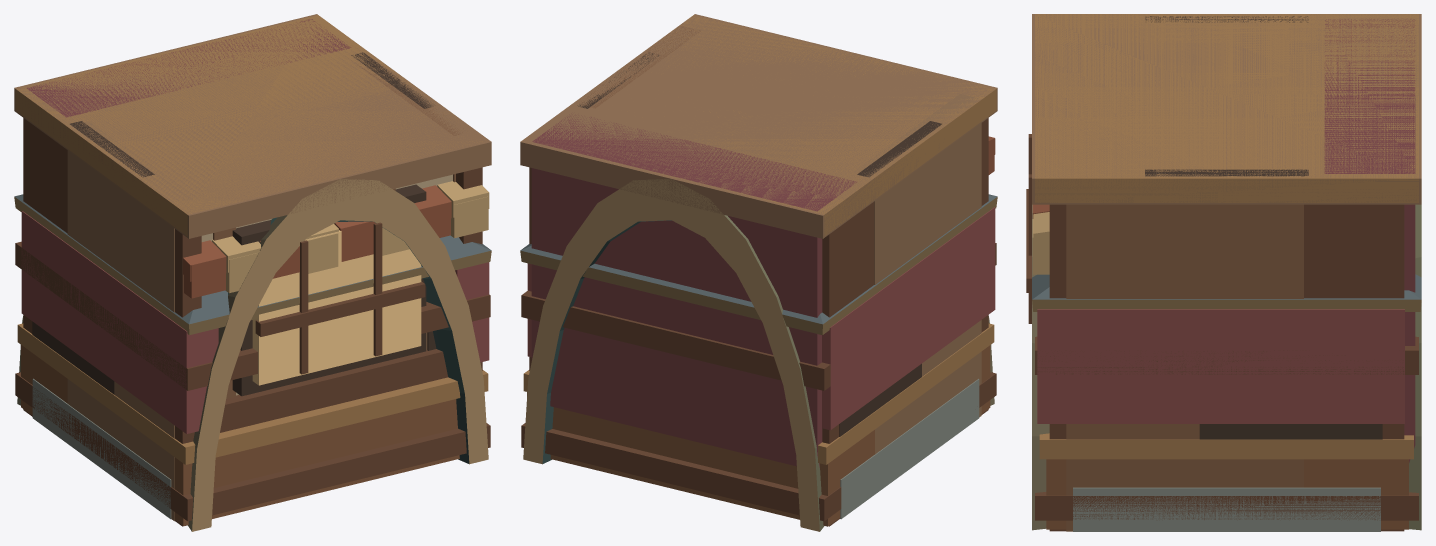
Rendered from world-expansion.glb.
3 views of the same model, side by side, from view 1: azimuth 30°, elevation 25°; view 2: azimuth 150°, elevation 25°; view 3: azimuth 270°, elevation 25° (orthographic). The views are drawn at different scales.
Visible parts, largest first — view 1: ReadingShelf, WallPanel, CushionSeat, ToyTunnel, WindowPanel, YardFence, MarketAmber, LanternSpan, MoonPavilion; view 2: CushionSeat, WallPanel, ReadingShelf, ToyTunnel, YardFence, LanternSpan, MoonPavilion; view 3: ReadingShelf, CushionSeat, WallPanel, YardFence, LanternSpan, MoonPavilion, ToyTunnel, MarketAmber, WindowPanel.
Boxes of the visible parts, x1,y1,x2,y2 form: ReadingShelf: [15, 15, 490, 526]; WallPanel: [14, 14, 491, 525]; CushionSeat: [21, 19, 489, 433]; ToyTunnel: [17, 179, 488, 531]; WindowPanel: [232, 184, 426, 396]; YardFence: [32, 57, 463, 521]; MarketAmber: [183, 181, 489, 298]; LanternSpan: [32, 52, 433, 519]; MoonPavilion: [14, 194, 491, 350]; CushionSeat: [527, 113, 995, 467]; WallPanel: [520, 14, 997, 526]; ReadingShelf: [521, 15, 996, 526]; ToyTunnel: [523, 179, 994, 531]; YardFence: [579, 26, 981, 454]; LanternSpan: [577, 52, 979, 519]; MoonPavilion: [520, 194, 997, 334]; ReadingShelf: [1035, 14, 1418, 531]; CushionSeat: [1037, 18, 1415, 462]; WallPanel: [1032, 14, 1421, 529]; YardFence: [1066, 19, 1382, 531]; LanternSpan: [1073, 16, 1380, 531]; MoonPavilion: [1032, 274, 1421, 311]; ToyTunnel: [1032, 204, 1421, 530]; MarketAmber: [1032, 204, 1049, 274]; WindowPanel: [1026, 134, 1031, 323].
Bounding box in the file's own units: 1 × 1 × 1.01.
